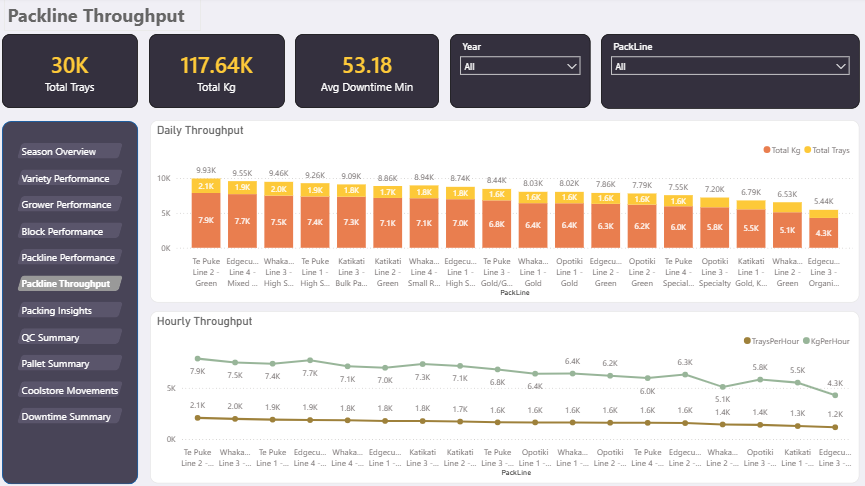

What the dashboard file says about the page in this screenshot:
{"tool":"powerbi","page":{"name":"Packline Throughput","canvas":[1280,720],"ordinal":5},"visuals":[{"type":"shape","box":[6,182.4,200.5,535.2],"z":0},{"type":"cardVisual","fields":{"Data":["Sum(view_PacklineDailyThroughput.TotalTrays)"]},"box":[6.1,53.8,199.8,109.1],"z":1000},{"type":"cardVisual","fields":{"Data":["Sum(view_PacklineDailyThroughput.TotalKg)"]},"box":[222.8,53.8,199.8,109.1],"z":2000},{"type":"cardVisual","fields":{"Data":["Avg(view_PacklineOEE_Daily.DowntimeMinutes)"]},"box":[437.8,53.8,212.1,109.1],"z":3000},{"type":"slicer","fields":{"Values":["view_PacklineDailyThroughput.PackLineName"]},"box":[887.7,54,381.1,109.6],"z":4000},{"type":"columnChart","title":"Daily Throughput","fields":{"Y":["Sum(view_PacklineDailyThroughput.TotalKg)","Sum(view_PacklineDailyThroughput.TotalTrays)"],"Category":["view_PacklineDailyThroughput.PackLineName"]},"box":[223.6,181.1,1045.4,269.2],"z":5000},{"type":"lineChart","title":"Hourly Throughput","fields":{"Category":["view_PacklineHourlyThroughput.PackLineName"],"Y":["Sum(view_PacklineHourlyThroughput.TraysPerHour)","Sum(view_PacklineHourlyThroughput.KgPerHour)"]},"box":[223.4,462.8,1045.4,253.8],"z":6000},{"type":"slicer","fields":{"Values":["view_PacklineDailyThroughput.FullDate.Variation.Date Hierarchy.Year"]},"box":[665.1,53.8,207.4,109.1],"z":7000},{"type":"pageNavigator","box":[27.4,214.6,157,420.5],"z":8000},{"type":"textbox","box":[8.8,2.9,290.2,47.1],"z":8001}]}

Visuals, with their boxes in screenshot pixels (x1, y1, x2, y2), scaled from the page's 1280x720 canvas onto the 865x486 screenshot:
shape: <box>4,123,140,484</box>
cardVisual - Sum(view_PacklineDailyThroughput.TotalTrays): <box>4,36,139,110</box>
cardVisual - Sum(view_PacklineDailyThroughput.TotalKg): <box>151,36,286,110</box>
cardVisual - Avg(view_PacklineOEE_Daily.DowntimeMinutes): <box>296,36,439,110</box>
slicer - view_PacklineDailyThroughput.PackLineName: <box>600,36,857,110</box>
"Daily Throughput" columnChart: <box>151,122,858,304</box>
"Hourly Throughput" lineChart: <box>151,312,857,484</box>
slicer - view_PacklineDailyThroughput.FullDate.Variation.Date Hierarchy.Year: <box>449,36,590,110</box>
pageNavigator: <box>19,145,125,429</box>
textbox: <box>6,2,202,34</box>
